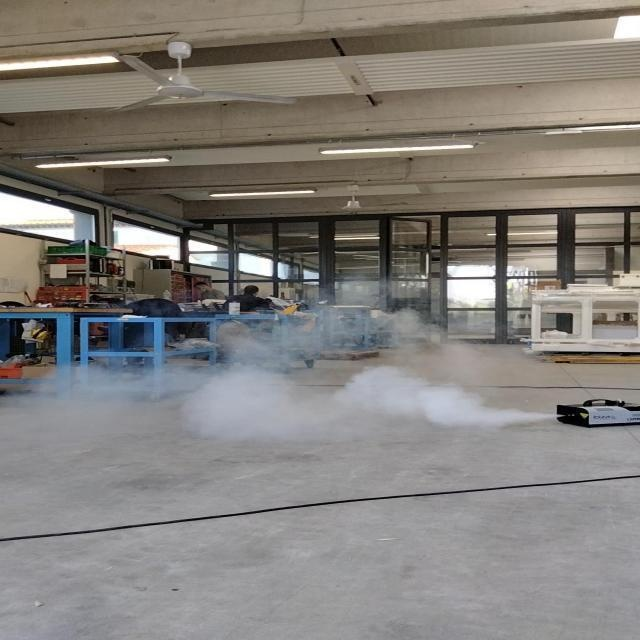smoke: (172, 344, 489, 438)
